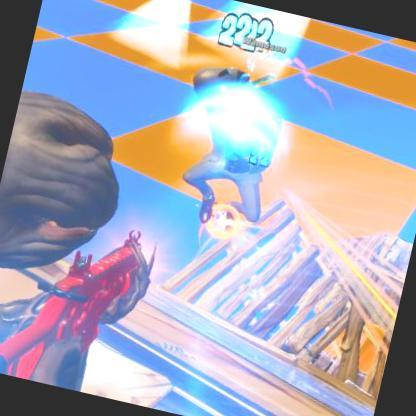person: (176, 58, 283, 226)
